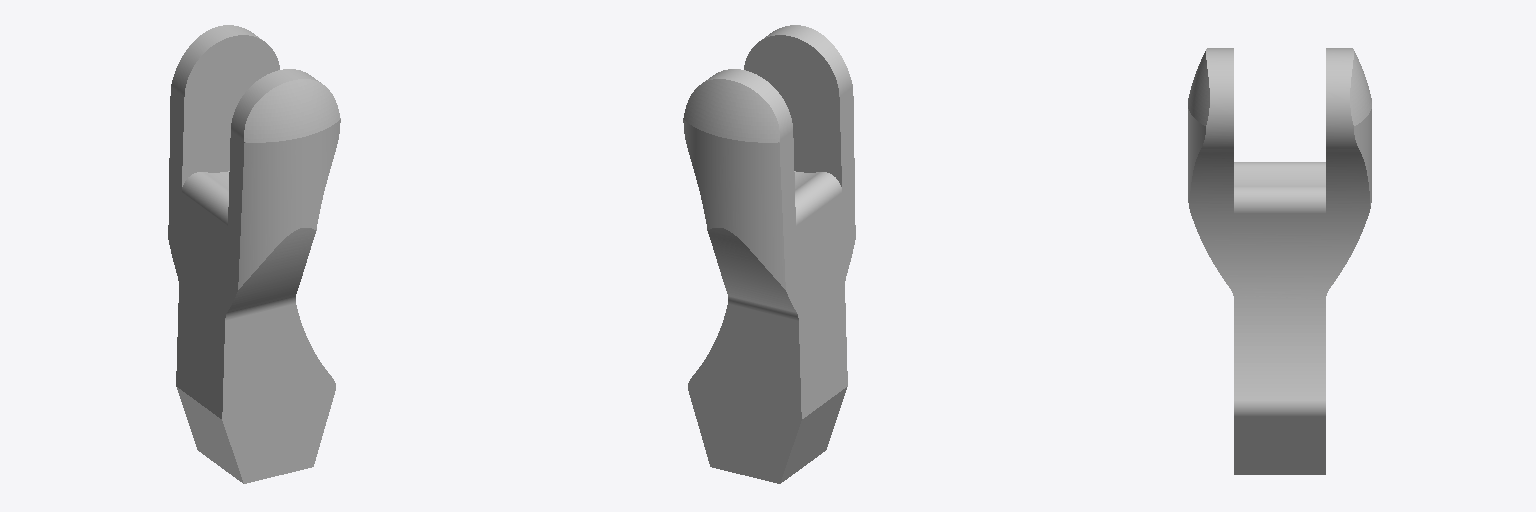
The model's file is Bone2.obj.
The picture shows the model from 3 angles: view 1: azimuth 30°, elevation 25°; view 2: azimuth 150°, elevation 25°; view 3: azimuth 270°, elevation 25°; orthographic projection.
Visible parts, largest first — view 1: Bone2; view 2: Bone2; view 3: Bone2.
Part boxes in pixels (left/top/right/bottom): Bone2: left=168, top=25, right=340, bottom=483; Bone2: left=683, top=25, right=855, bottom=483; Bone2: left=1188, top=48, right=1371, bottom=474.
Size of the model in its own units: 178 by 605 by 250.